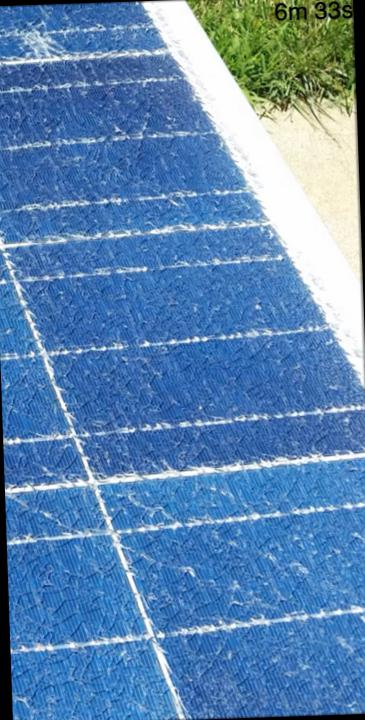Crack: (0, 262, 309, 719), (0, 88, 201, 269), (0, 11, 85, 85), (87, 16, 153, 85)
